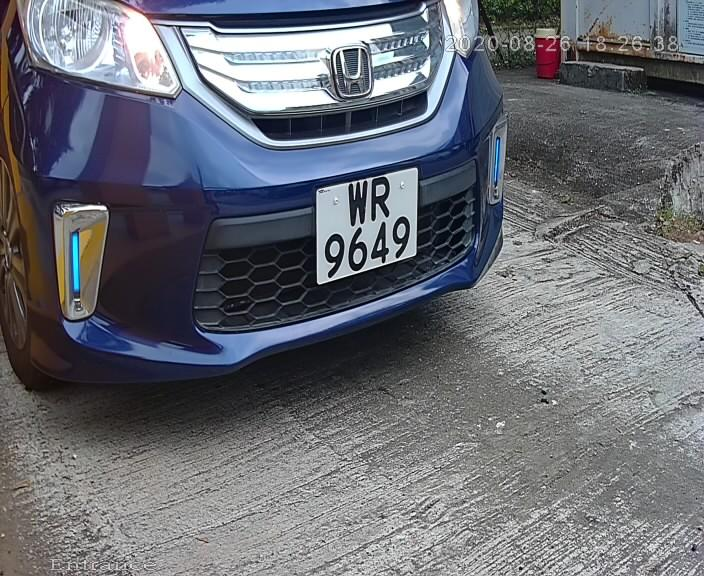Car: (1, 3, 538, 430)
License Plate: (309, 160, 425, 296)
